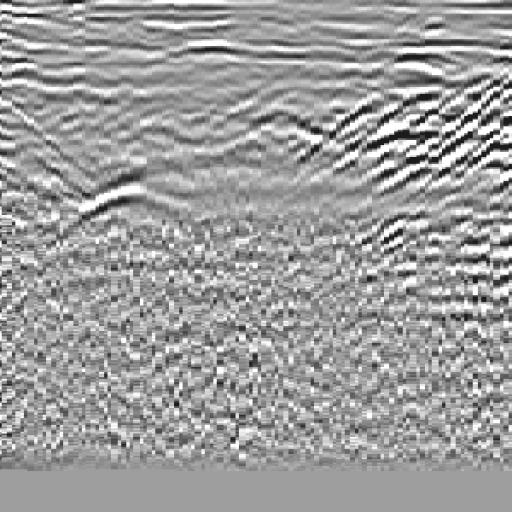metalic: (44, 39, 199, 264)
nonmetalic: (396, 44, 512, 261)
